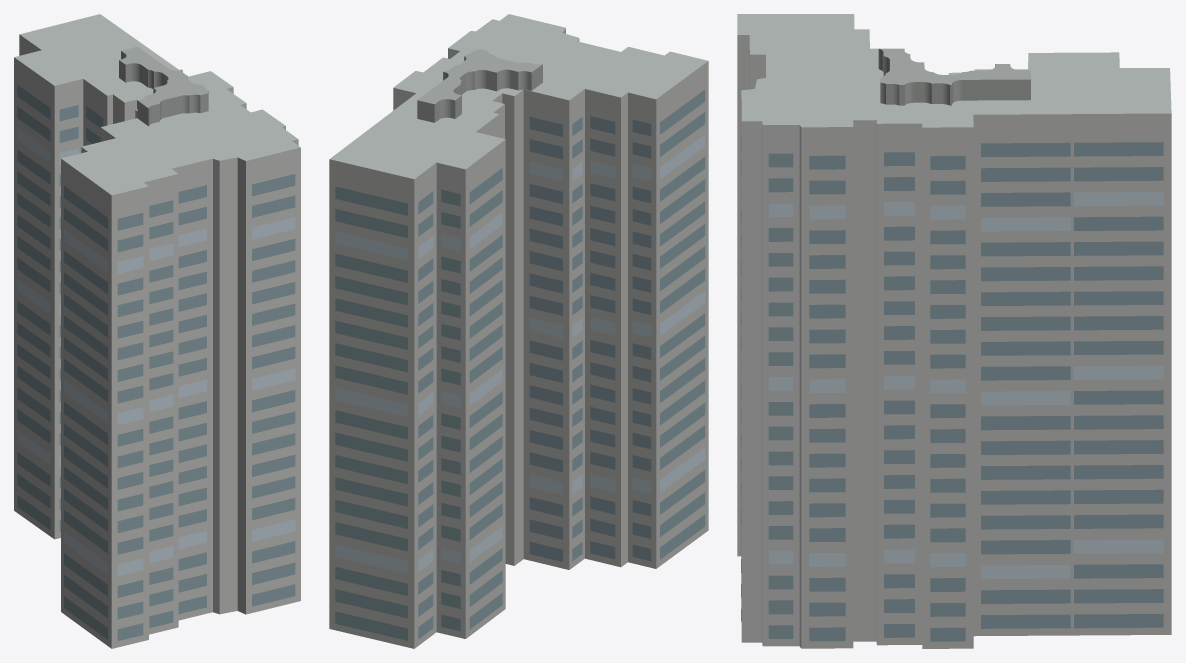
File: fallback-godeok-arteon-completion-301.glb
3 renders of one model, left to right at view 1: azimuth 30°, elevation 25°; view 2: azimuth 150°, elevation 25°; view 3: azimuth 270°, elevation 25°, orthographic. The views are drawn at different scales.
Parts seen in each view (by area): view 1: fallback-godeok-arteon-completion-301; view 2: fallback-godeok-arteon-completion-301; view 3: fallback-godeok-arteon-completion-301.
Boxes of the visible parts, x1,y1,x2,y2 form: fallback-godeok-arteon-completion-301: (14, 14, 300, 648); fallback-godeok-arteon-completion-301: (329, 14, 708, 648); fallback-godeok-arteon-completion-301: (737, 14, 1171, 648).
Bounding box in the file's own units: 28.4 × 63 × 45.81.
